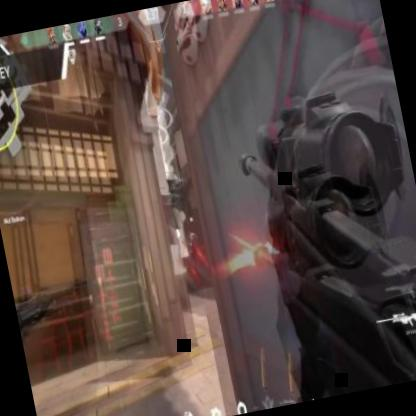enemy: (187, 230, 201, 257)
enemy_head: (188, 231, 192, 237)
